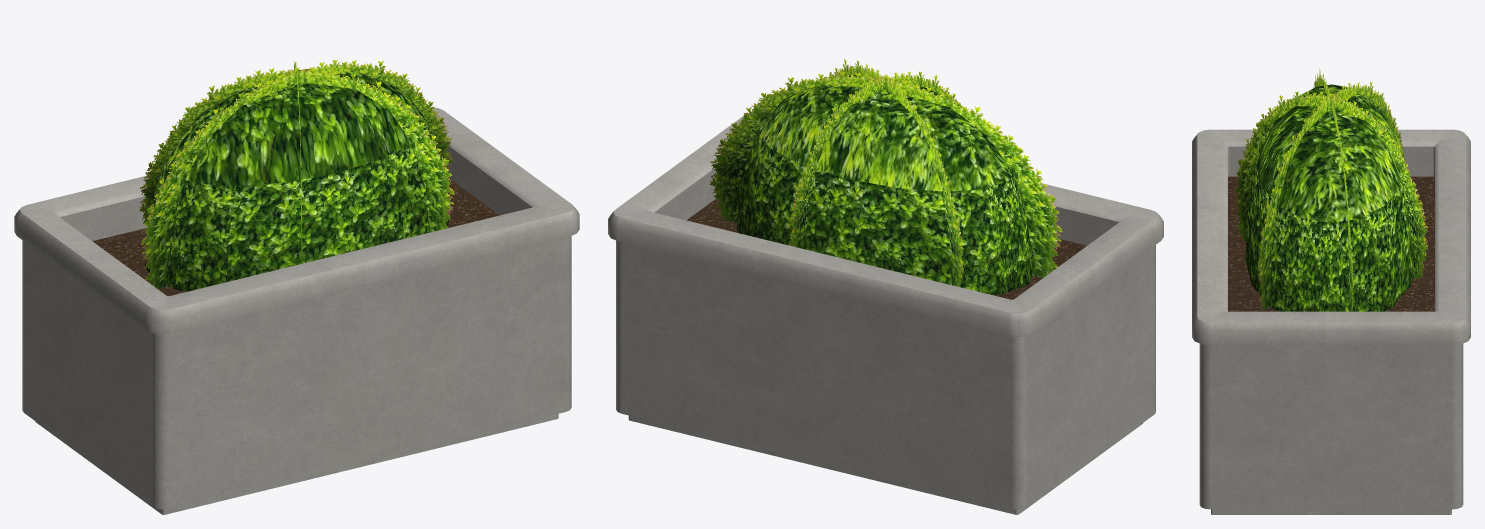
File: planter.glb
3 renders of one model, left to right at view 1: azimuth 30°, elevation 25°; view 2: azimuth 150°, elevation 25°; view 3: azimuth 270°, elevation 25°, orthographic. The views are drawn at different scales.
Parts seen in each view (by area): view 1: planter; view 2: planter; view 3: planter.
Boxes of the visible parts, x1=… form: planter: x1=14, y1=60, x2=579, y2=514; planter: x1=608, y1=59, x2=1163, y2=514; planter: x1=1192, y1=68, x2=1470, y2=514.
Bounding box in the file's own units: 1.24 × 0.9785 × 0.74.
Materials: 3 (3 with a texture image).
